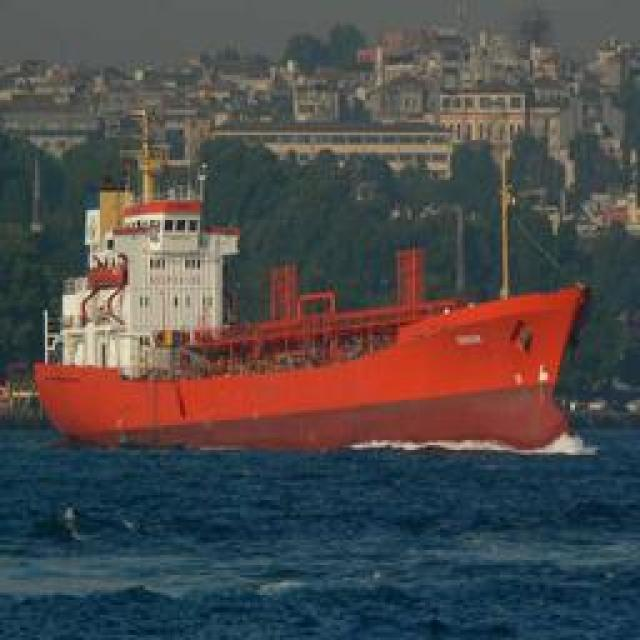CIV_Ship: (28, 270, 610, 455)
